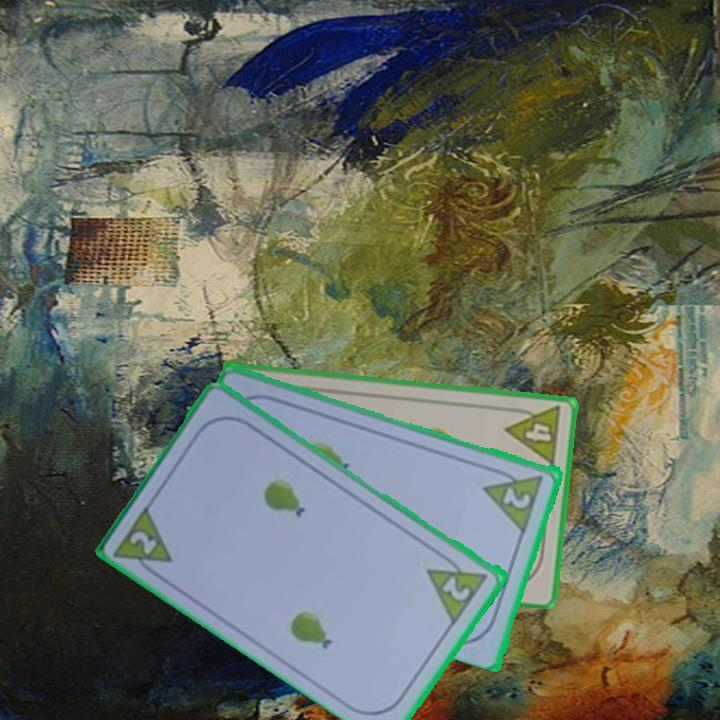2p: (111, 500, 177, 583), (424, 548, 492, 626), (499, 482, 534, 512)
4p: (502, 402, 565, 468)
